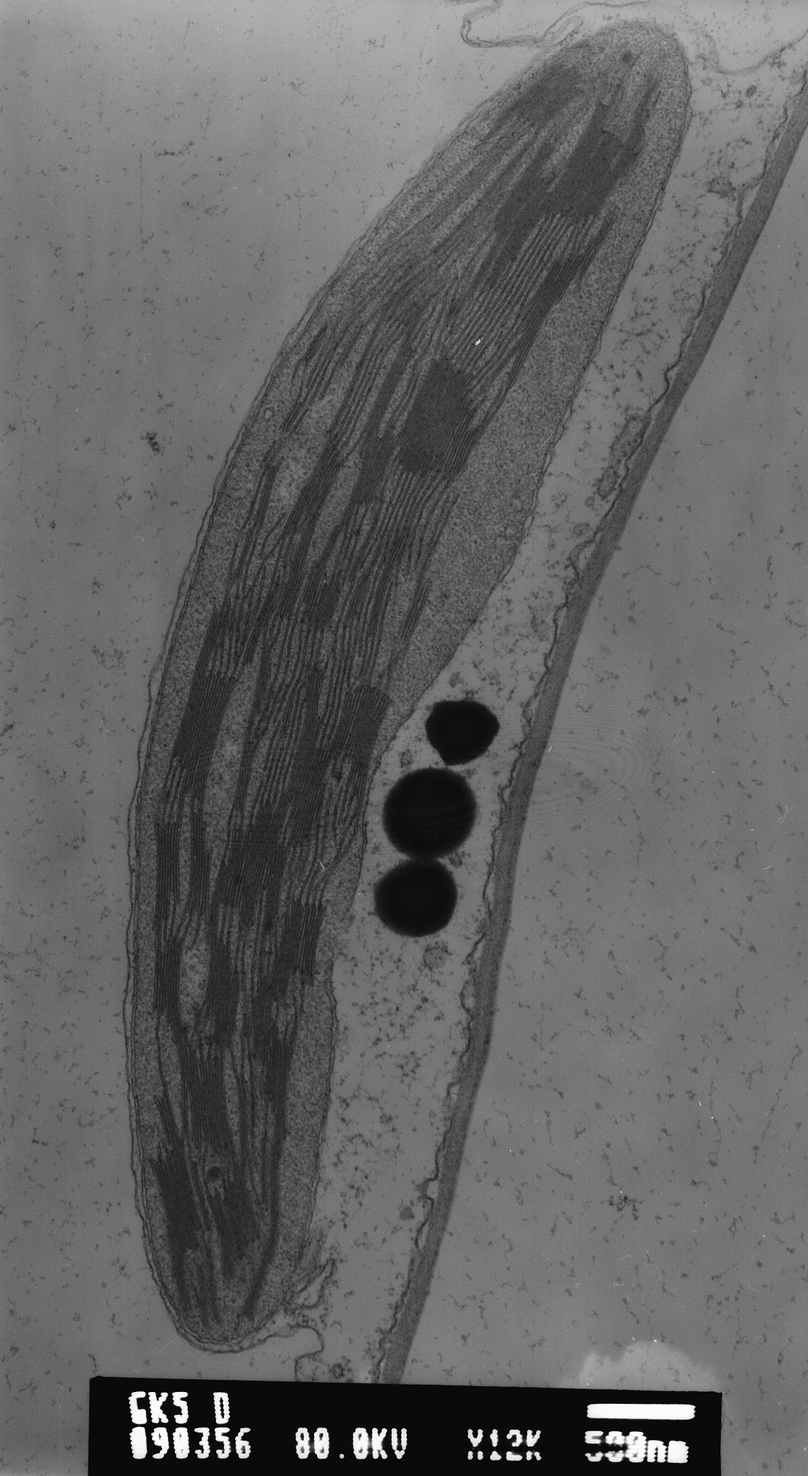granum: (171, 611, 241, 803), (470, 139, 562, 284), (395, 354, 497, 484), (212, 790, 291, 934), (502, 248, 582, 389), (241, 526, 315, 667), (146, 1142, 204, 1313), (171, 1026, 238, 1164), (540, 130, 624, 223), (329, 682, 395, 798), (422, 142, 508, 231), (281, 431, 349, 537), (206, 1162, 265, 1282), (284, 714, 332, 849), (341, 422, 398, 527), (506, 57, 584, 132), (361, 336, 419, 433), (252, 1014, 295, 1141), (482, 200, 544, 287), (366, 528, 415, 637), (273, 895, 328, 989), (200, 940, 242, 1050), (150, 821, 183, 935), (298, 556, 345, 633), (182, 812, 213, 918), (152, 934, 185, 1033), (612, 103, 652, 181), (568, 99, 614, 164), (395, 575, 434, 650), (581, 202, 623, 271), (231, 730, 264, 813), (341, 559, 378, 630), (249, 962, 291, 1017), (253, 464, 281, 531), (248, 644, 274, 716), (152, 1091, 184, 1148), (233, 1075, 252, 1163), (302, 664, 328, 715), (299, 327, 328, 367), (320, 522, 344, 562), (401, 302, 429, 336), (278, 400, 306, 432), (204, 905, 220, 948), (240, 1012, 253, 1041)
